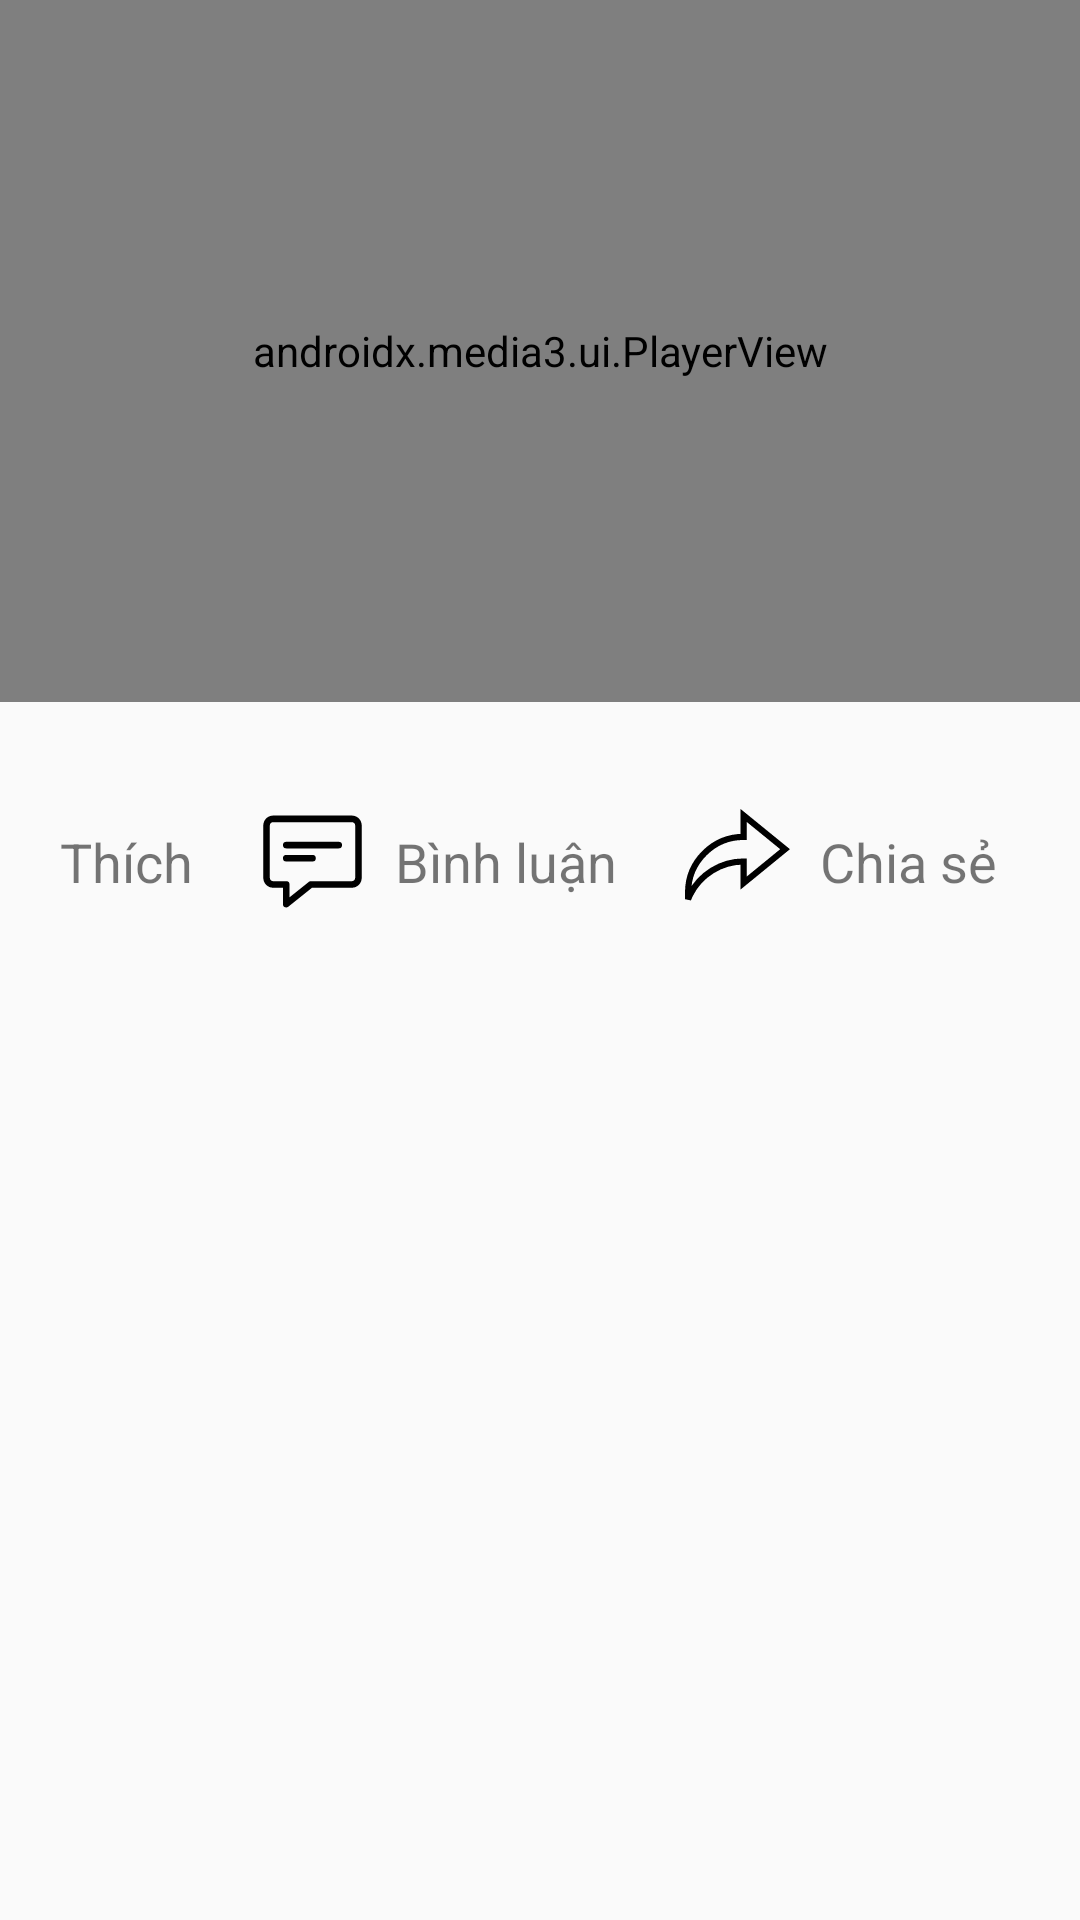

Screen size 1080 × 1920. Icon name, then its box in pixels as (x1, y1, x2, y2):
comment: (263, 815, 362, 908)
share: (685, 809, 790, 901)
